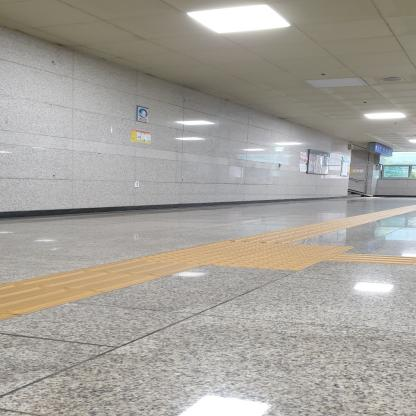go: (5, 270, 163, 292), (75, 259, 207, 276)
stop: (207, 256, 323, 271), (129, 252, 240, 265), (240, 249, 342, 261), (167, 245, 267, 256)
